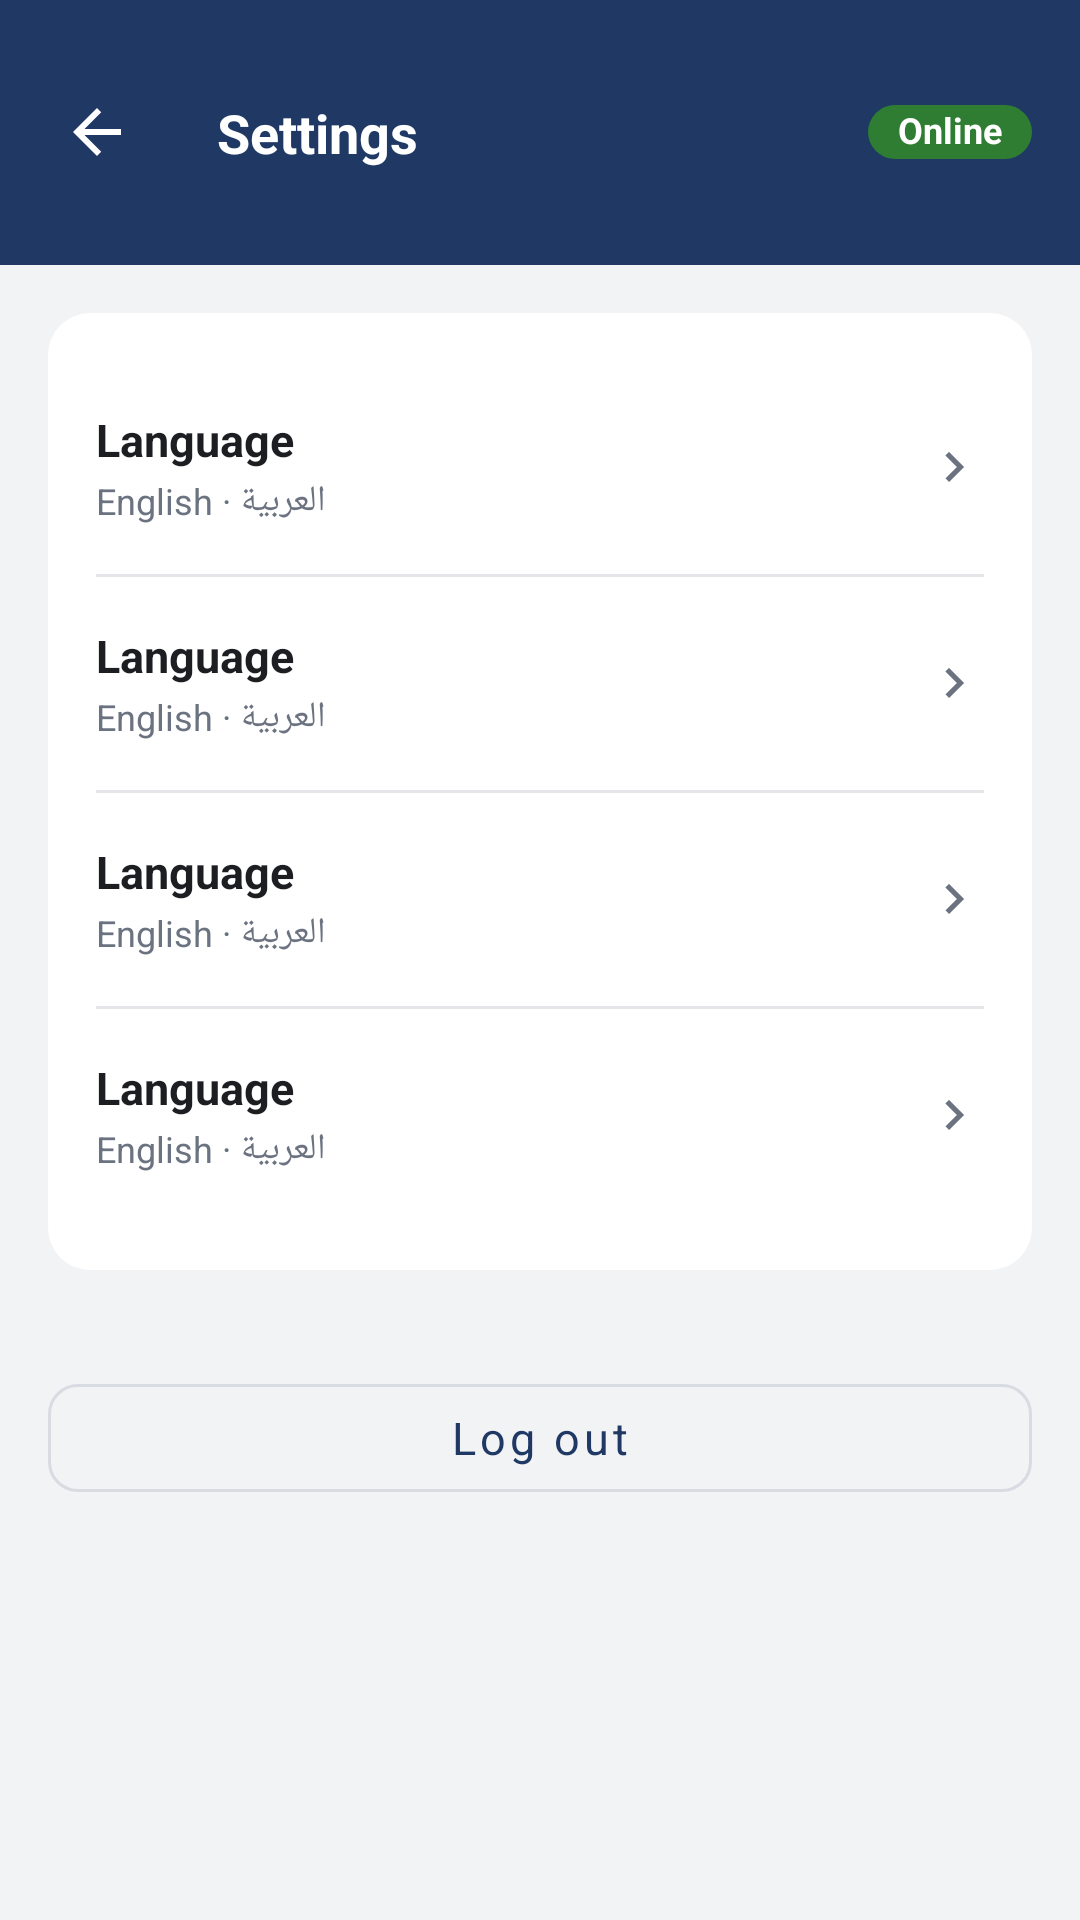

Where to tap for icons on this 1080×1920 app screen, as point (x, y):
Back: point (97, 132)
chevron end: point (954, 467), point (954, 683), point (954, 899), point (954, 1115)
